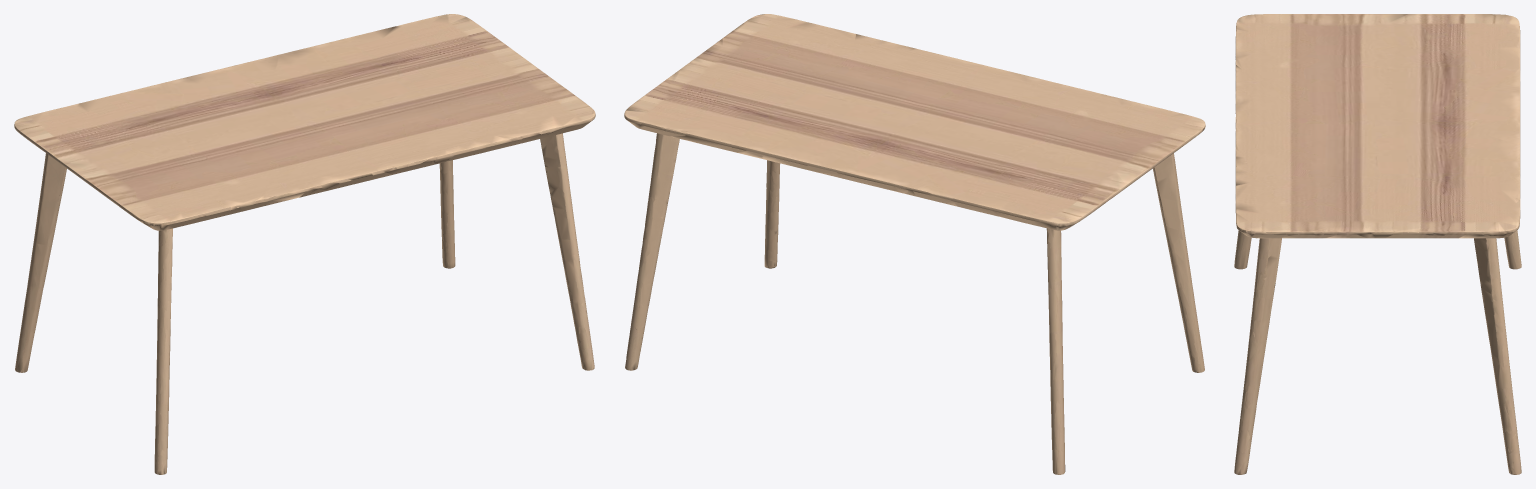
3 renders of one model, left to right at view 1: azimuth 30°, elevation 25°; view 2: azimuth 150°, elevation 25°; view 3: azimuth 270°, elevation 25°, orthographic.
Visible parts, largest first — view 1: Mesh_0; view 2: Mesh_0; view 3: Mesh_0.
Boxes of the visible parts, <box> form: Mesh_0: <box>14,14,595,474</box>; Mesh_0: <box>624,14,1205,474</box>; Mesh_0: <box>1234,14,1521,474</box>.
Size of the model in its own units: 1.4 by 0.74 by 0.78.
Materials: 1 (1 with a texture image).
